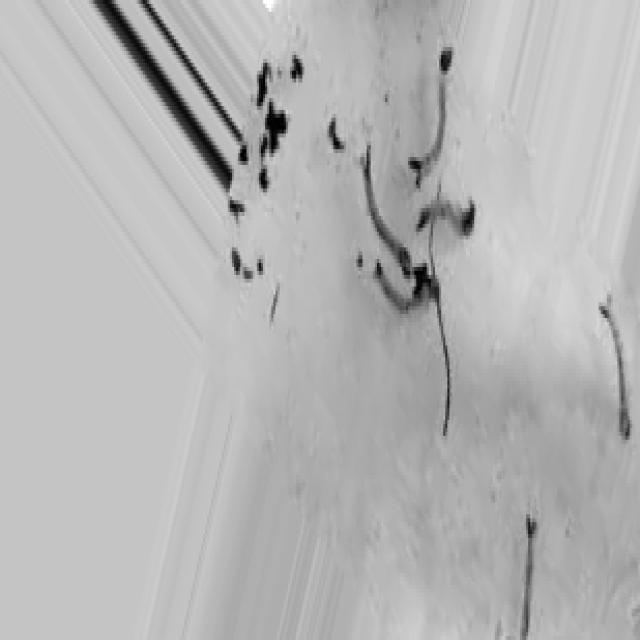larvas: (349, 146, 421, 285), (412, 44, 449, 180), (599, 297, 630, 438), (378, 268, 430, 314), (416, 202, 476, 239), (524, 516, 535, 634)
